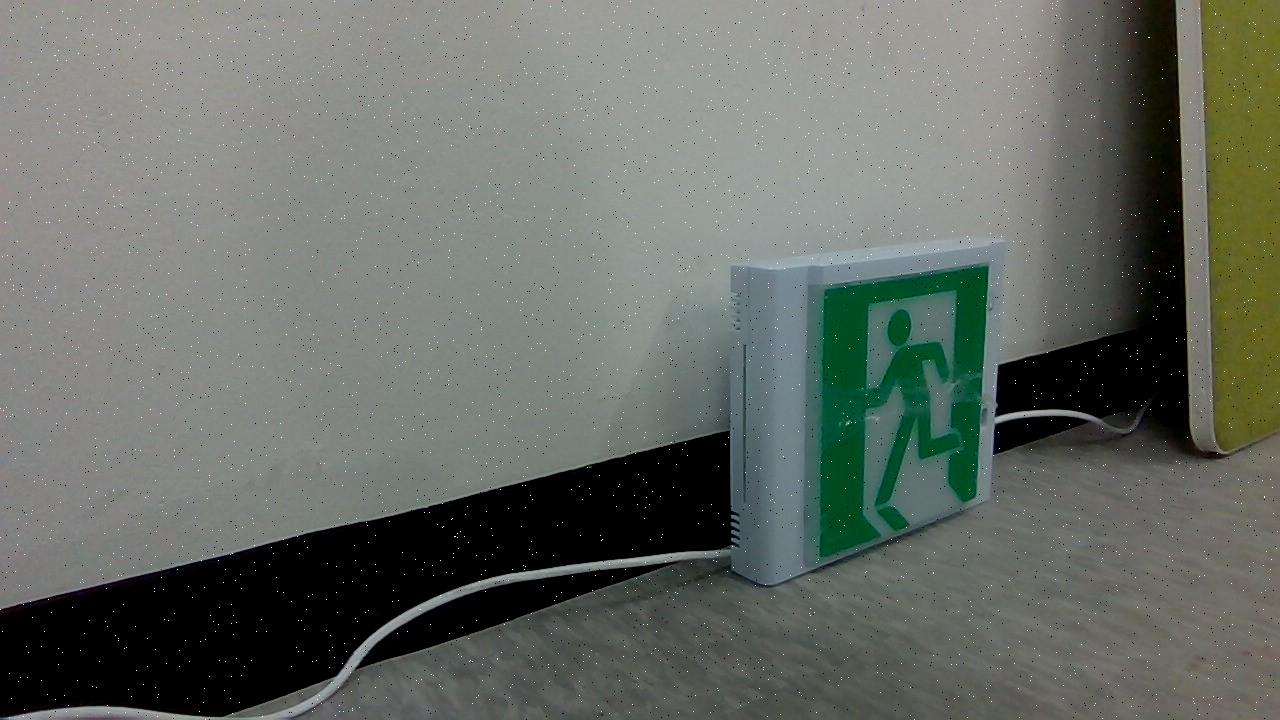emergency_exit: (727, 240, 1006, 587)
